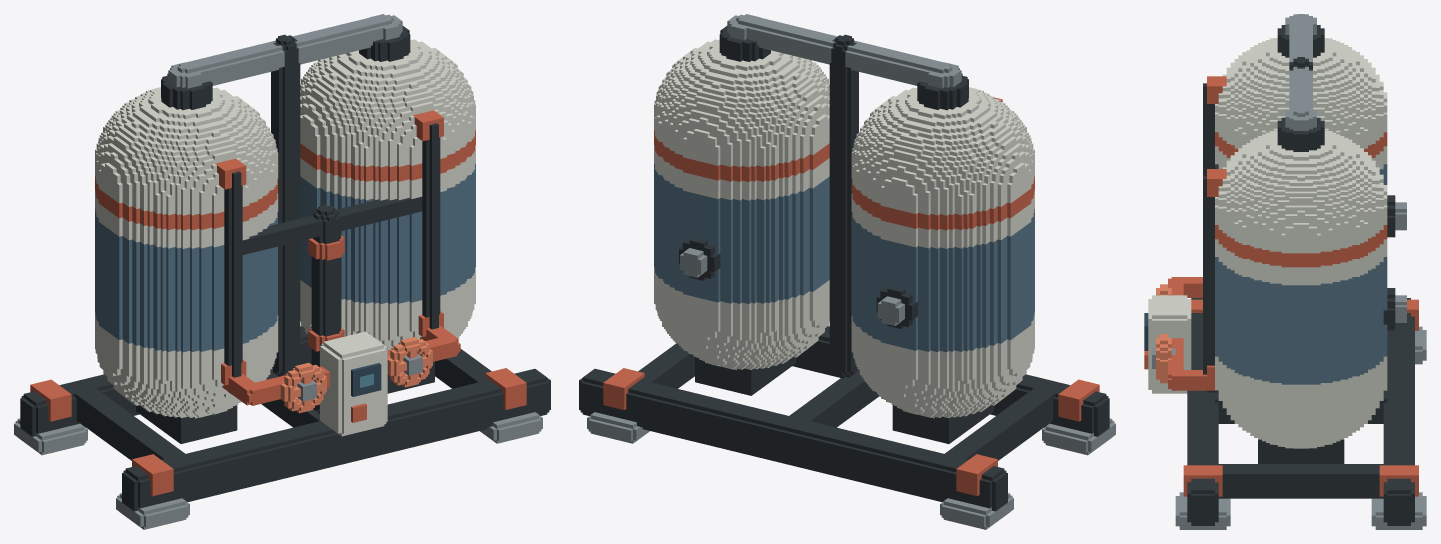
File: fuel_tank.glb
The picture shows the model from 3 angles, left to right: view 1: azimuth 30°, elevation 25°; view 2: azimuth 150°, elevation 25°; view 3: azimuth 270°, elevation 25°; orthographic projection. The views are drawn at different scales.
Parts seen in each view (by area): view 1: fuel_tank; view 2: fuel_tank; view 3: fuel_tank.
Boxes of the visible parts, x1,y1,x2,y2 form: fuel_tank: (14,14,550,529); fuel_tank: (579,14,1115,529); fuel_tank: (1144,14,1426,529).
Bounding box in the file's own units: 4.72 × 4.28 × 2.88.
